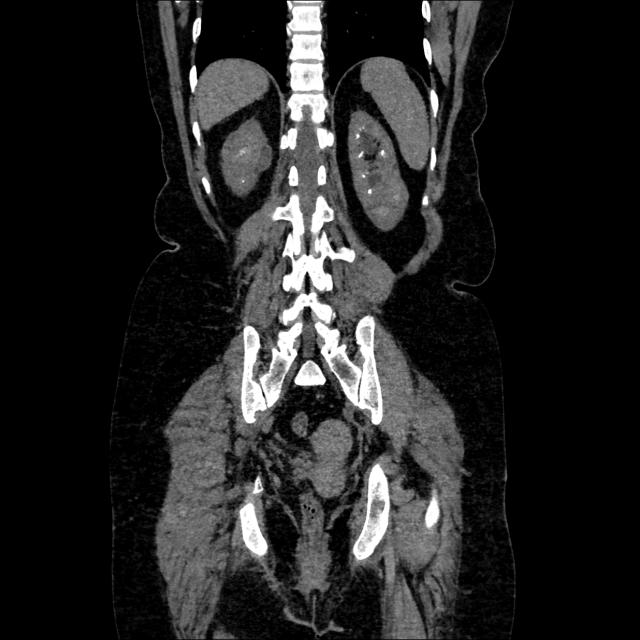kidney: (352, 119, 399, 217), (230, 131, 258, 188)
stone: (240, 150, 245, 155), (358, 152, 363, 156), (356, 134, 359, 138), (369, 190, 372, 194), (382, 150, 384, 156), (242, 180, 244, 183), (362, 176, 365, 177)
